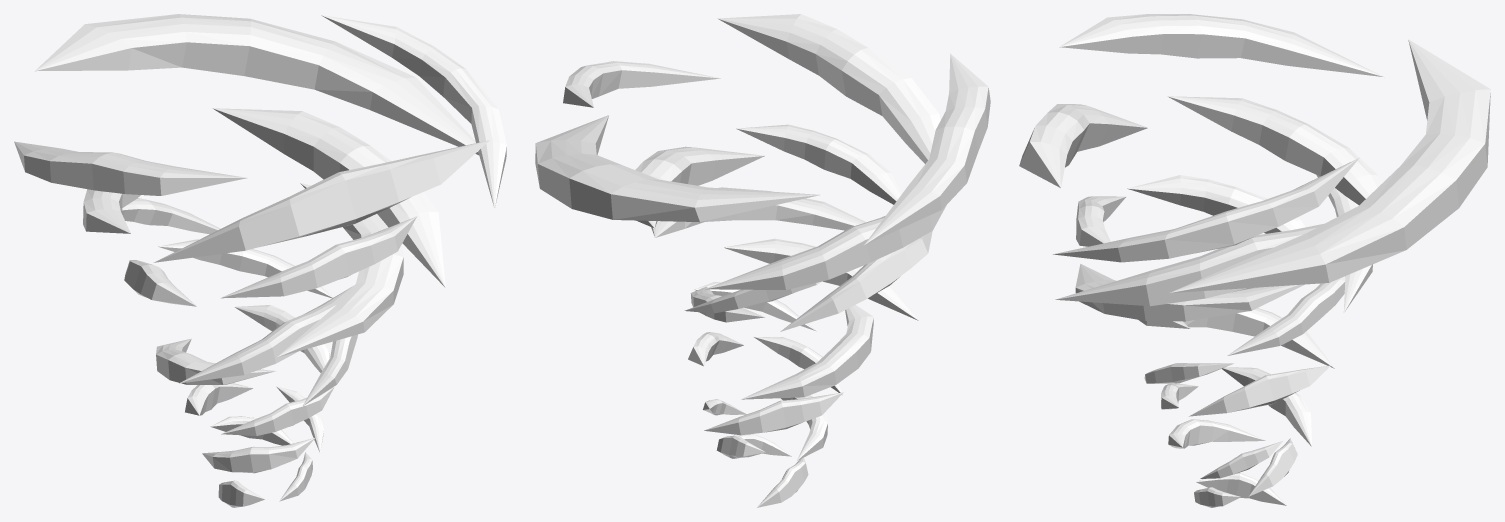
File: Torunedo.obj
The picture shows the model from 3 angles, left to right: view 1: azimuth 30°, elevation 25°; view 2: azimuth 150°, elevation 25°; view 3: azimuth 270°, elevation 25°; orthographic projection. The views are drawn at different scales.
Parts seen in each view (by area): view 1: 立方体; view 2: 立方体; view 3: 立方体.
Boxes of the visible parts, <box> form: 立方体: <box>14,14,506,507</box>; 立方体: <box>535,14,990,507</box>; 立方体: <box>1019,14,1490,507</box>.
Size of the model in its own units: 2.59 by 2.49 by 2.56.
Materials: 1 (1 with a texture image).
